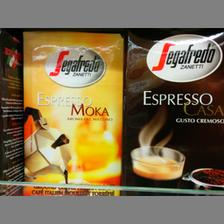Kaffee: (121, 28, 223, 196), (21, 29, 121, 195)
